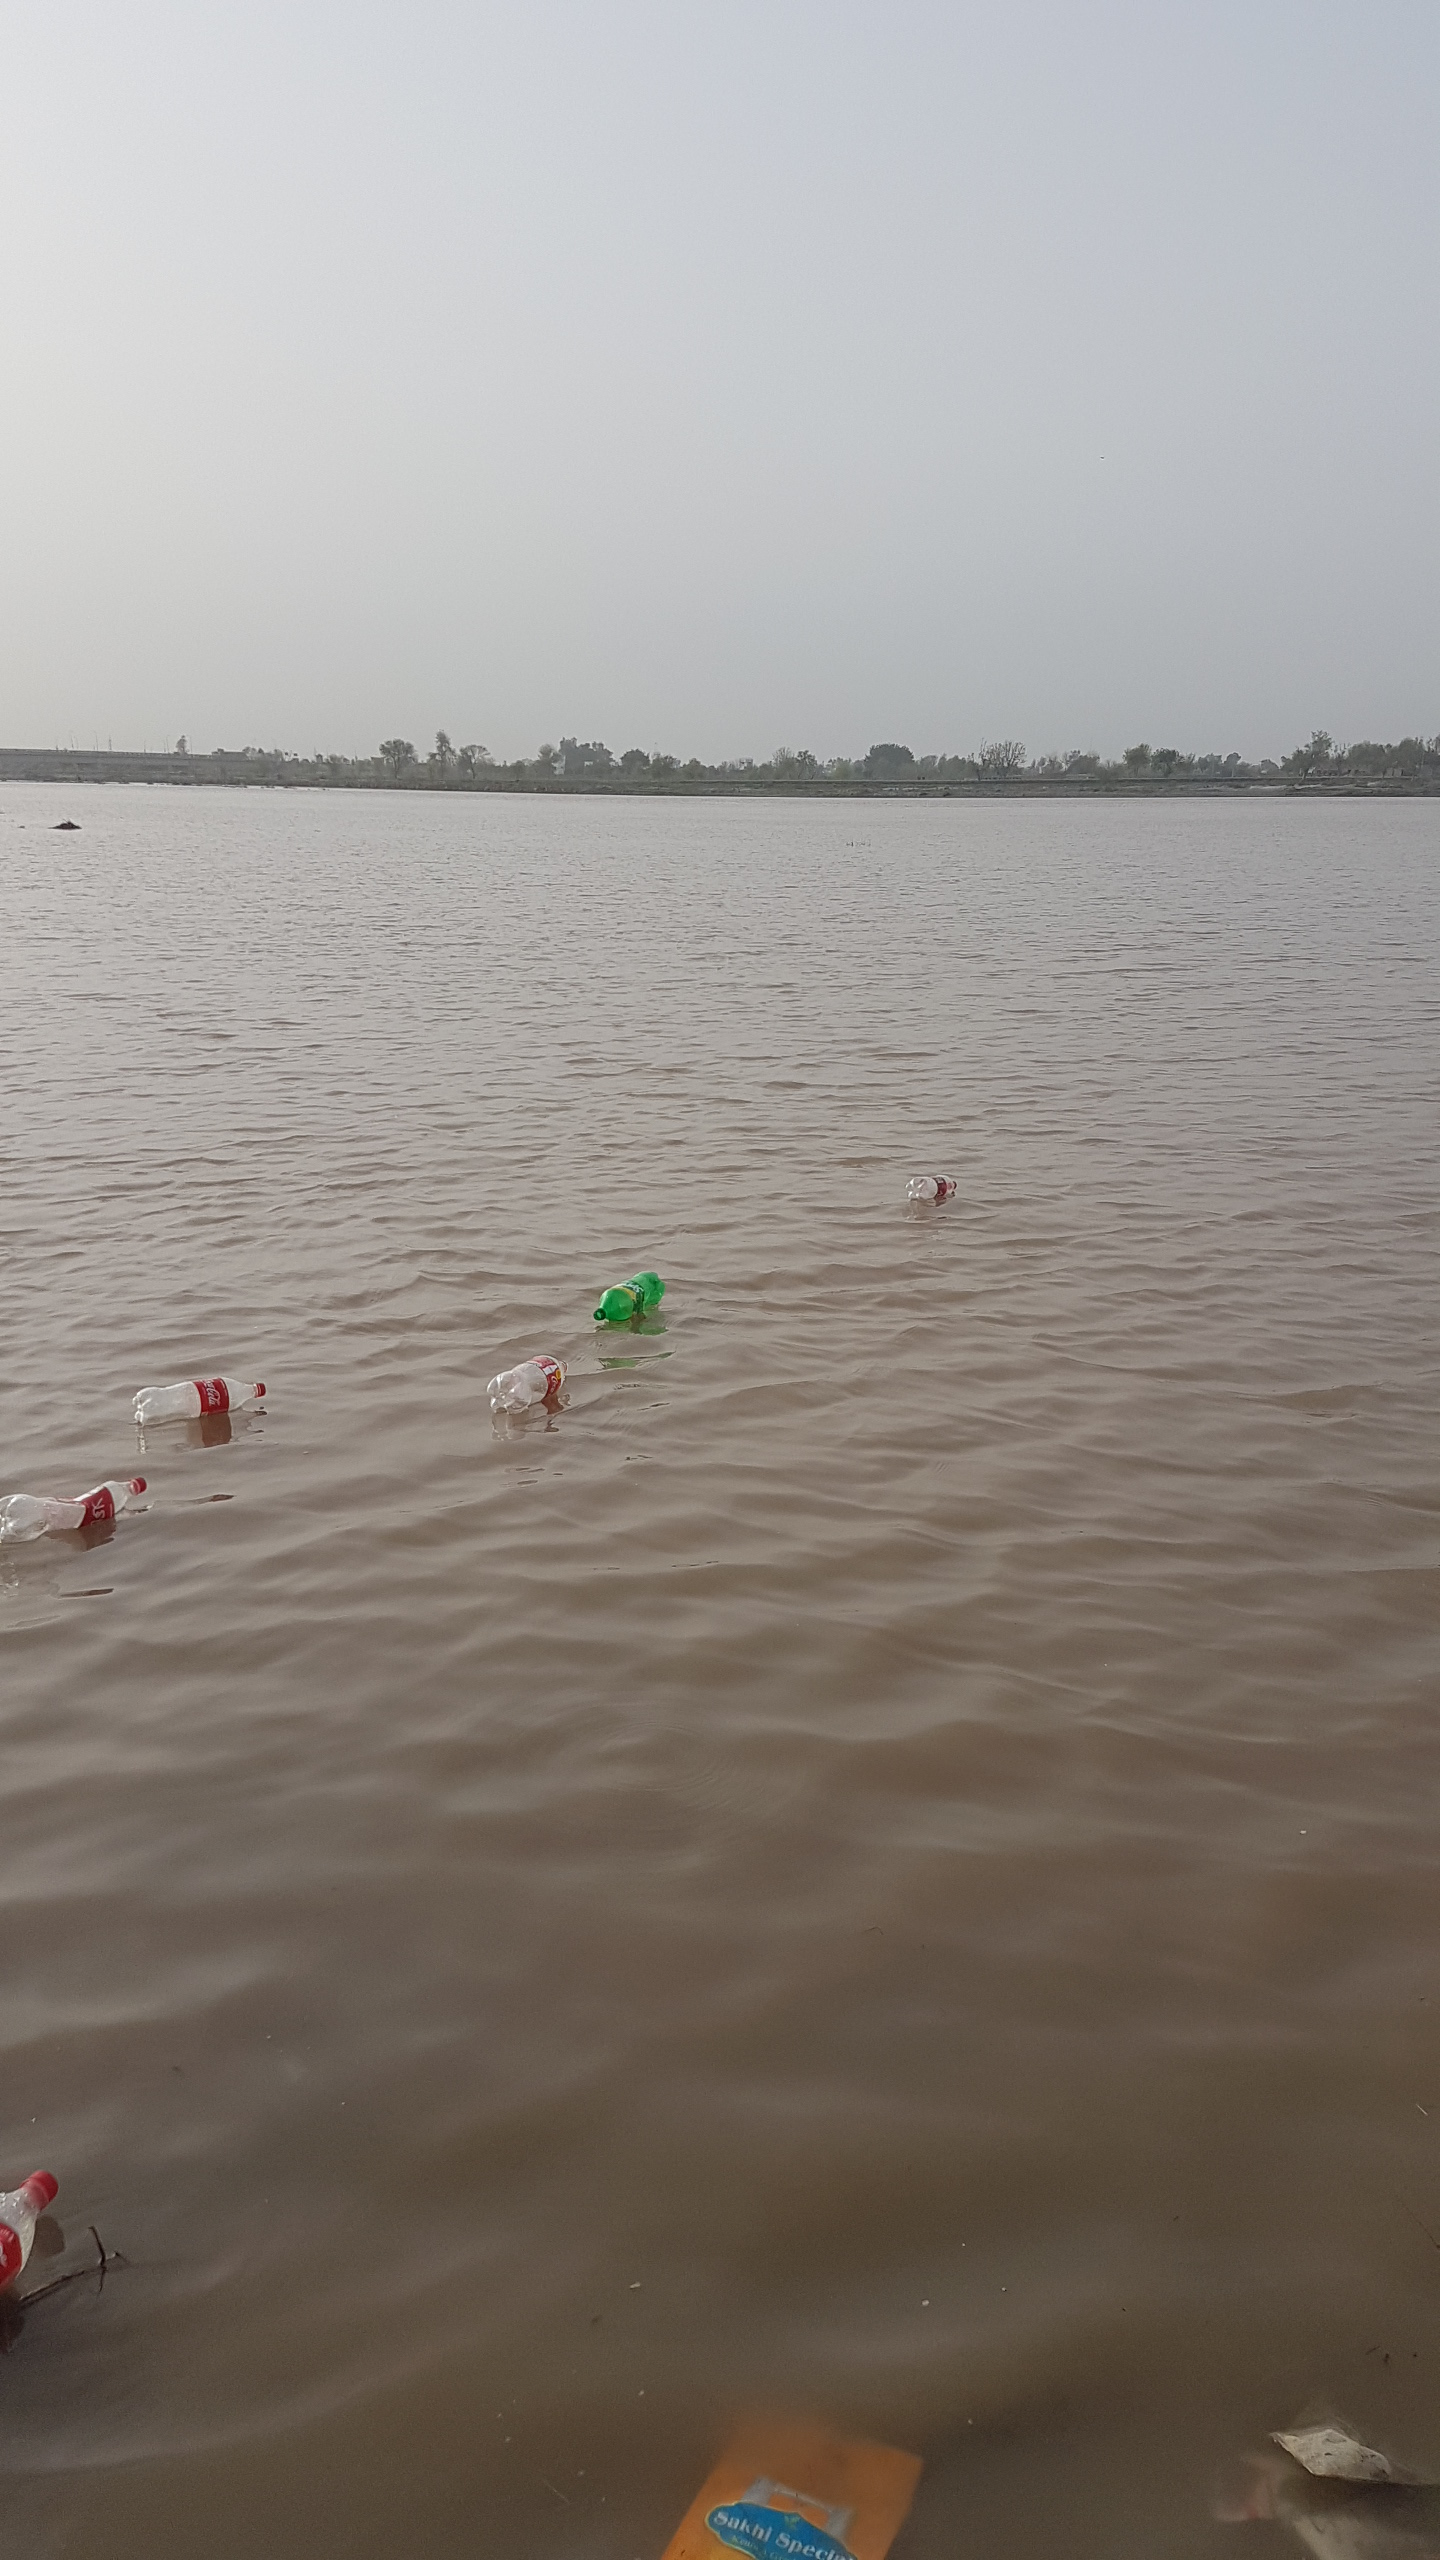Plastic Bottle: (2, 1477, 148, 1540), (132, 1377, 265, 1428), (2, 2170, 56, 2291), (485, 1356, 570, 1415), (593, 1269, 665, 1320), (905, 1175, 958, 1199)
